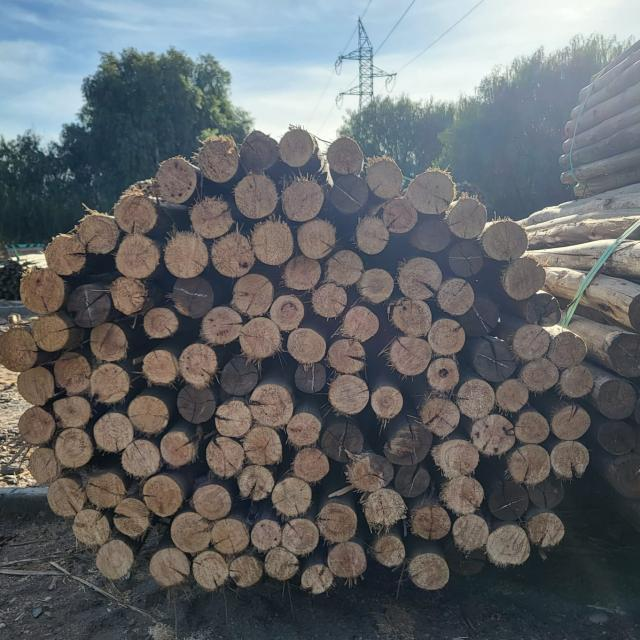package: (0, 129, 595, 599)
